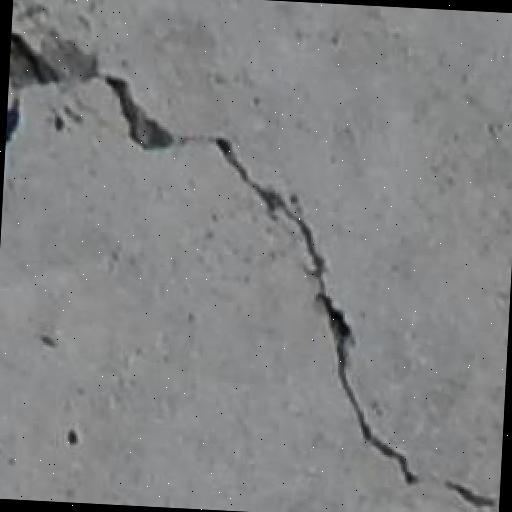spalling: (15, 14, 494, 512)
